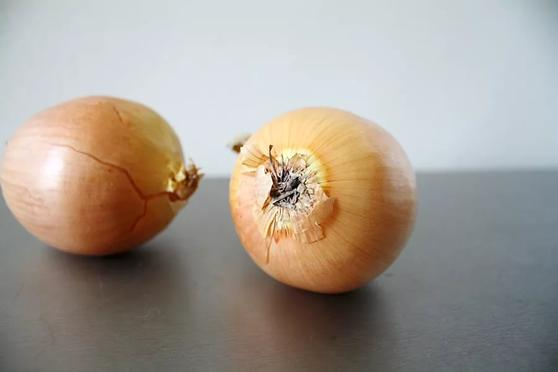onion: (229, 106, 421, 293), (1, 82, 206, 255)
